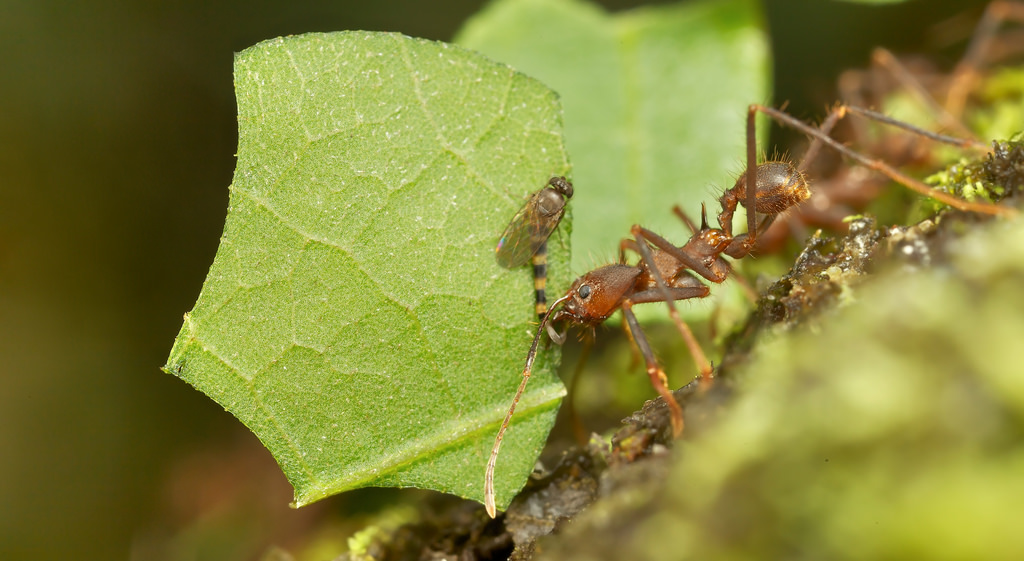phorid fly: (455, 149, 580, 269)
